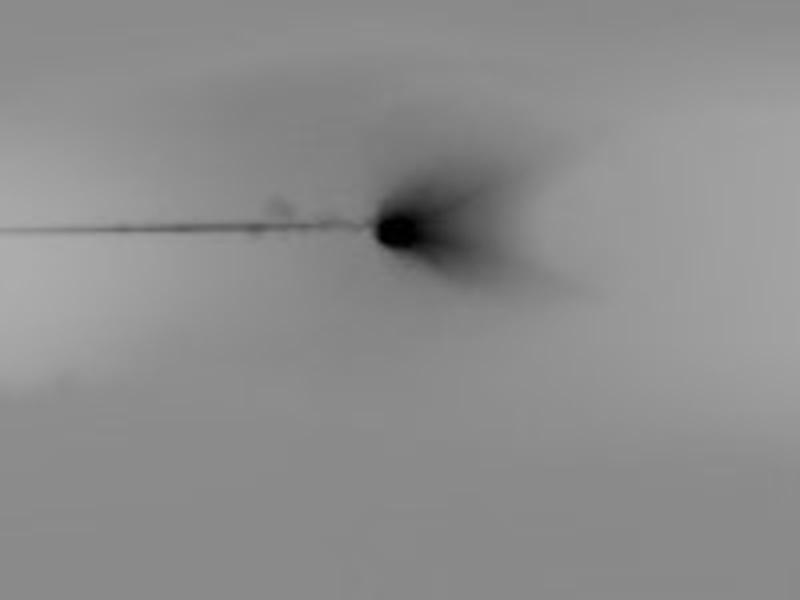defect: (373, 209, 429, 251)
